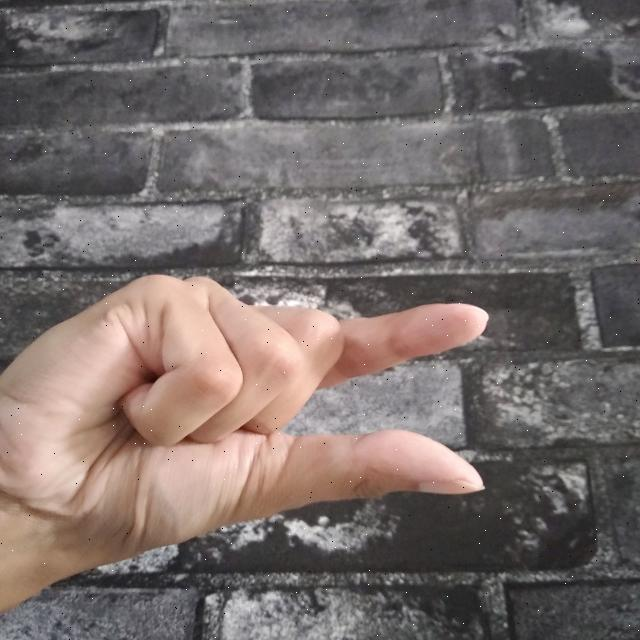G: (0, 271, 491, 614)
